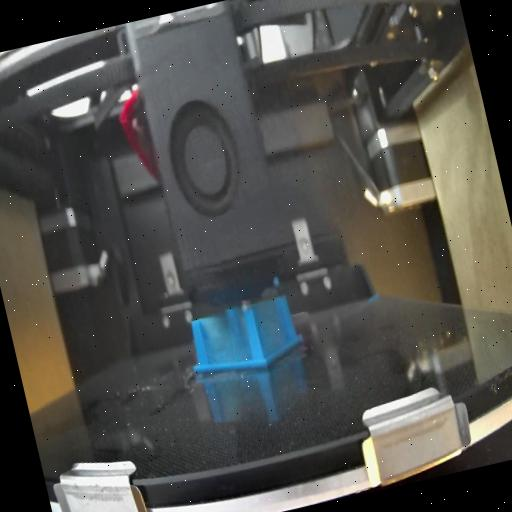stringing: (192, 306, 258, 374), (250, 298, 298, 360)
